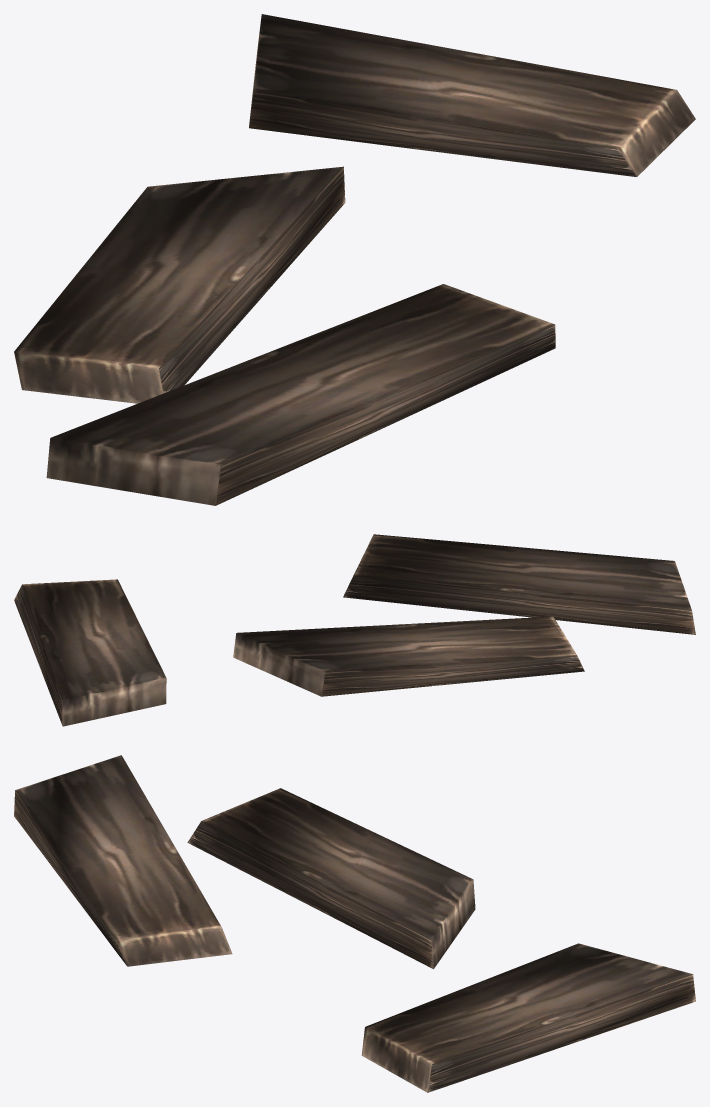
The model's file is darkironwoodplanks05.obj.
3 views of the same model, one above another, from view 1: azimuth 30°, elevation 25°; view 2: azimuth 150°, elevation 25°; view 3: azimuth 270°, elevation 25° (orthographic). The views are drawn at different scales.
Parts seen in each view (by area): view 1: darkironwoodplanks05; view 2: darkironwoodplanks05; view 3: darkironwoodplanks05.
Boxes of the visible parts, x1=… form: darkironwoodplanks05: x1=14, y1=14, x2=695, y2=505; darkironwoodplanks05: x1=14, y1=534, x2=695, y2=726; darkironwoodplanks05: x1=14, y1=755, x2=695, y2=1092.
Bounding box in the file's own units: 5.4 × 0.2603 × 5.02.
